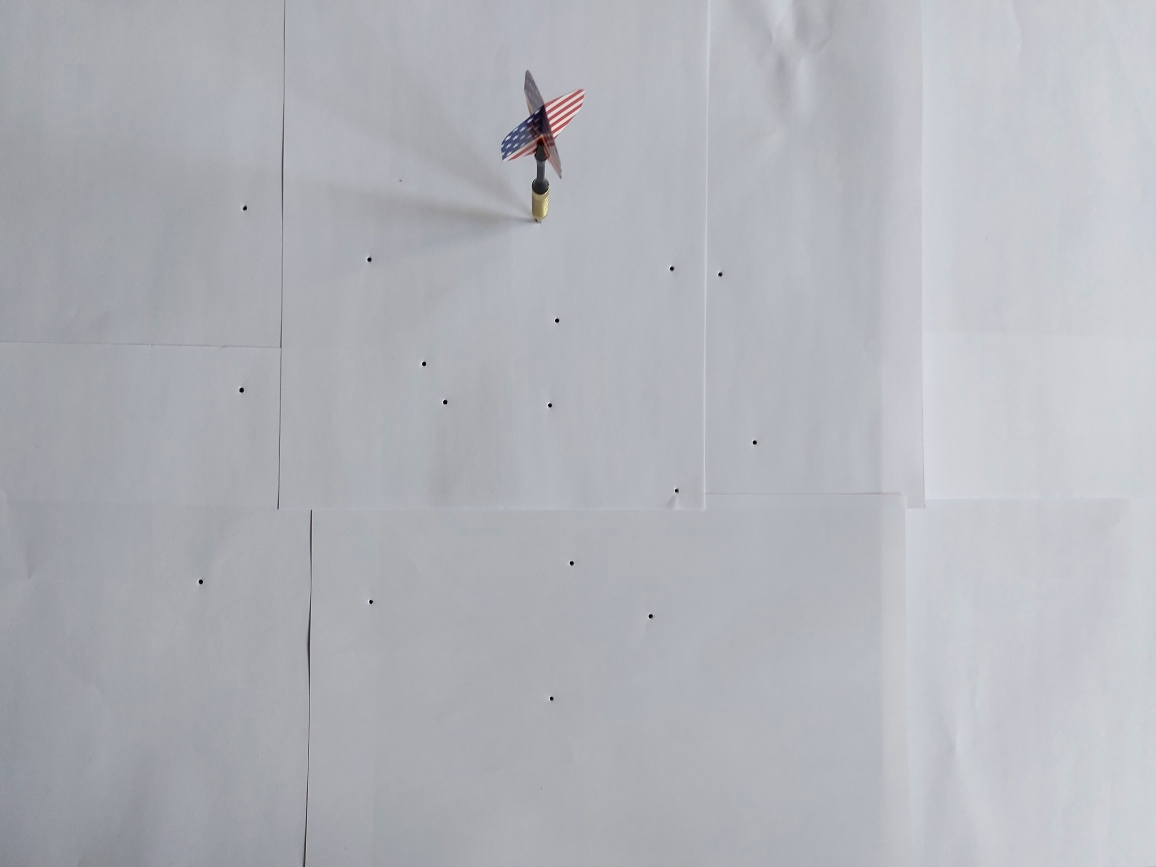Dart: (493, 65, 595, 240)
